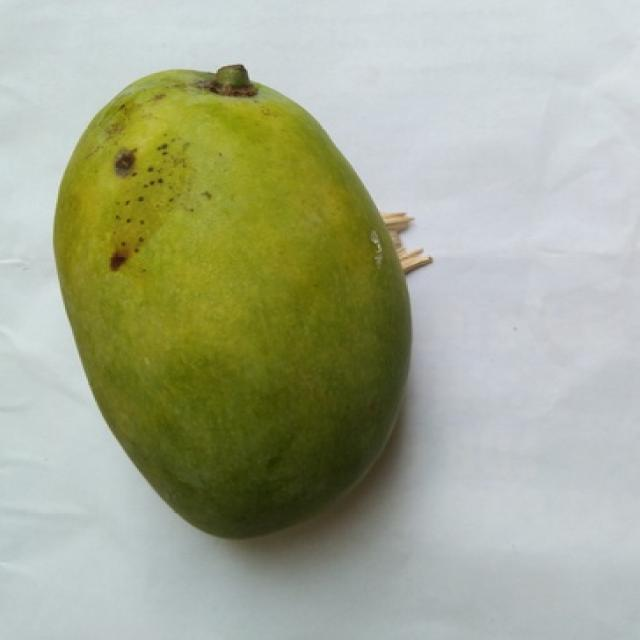Mango: (55, 66, 410, 535)
